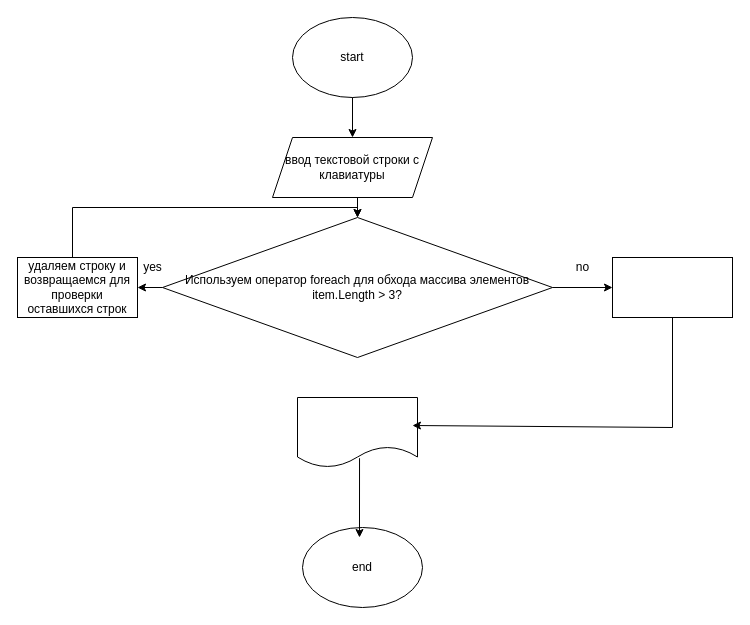
This 750x625 diagram has some shape labels left out. The centre of each missing label's shape, as x and y in pixels:
"выводим на дисплей новый массив со строками, где длина<= 3." belongs at [357,432].
"сохраняем строку и добавляем следующую если item.Length <=3" belongs at [672,287].
